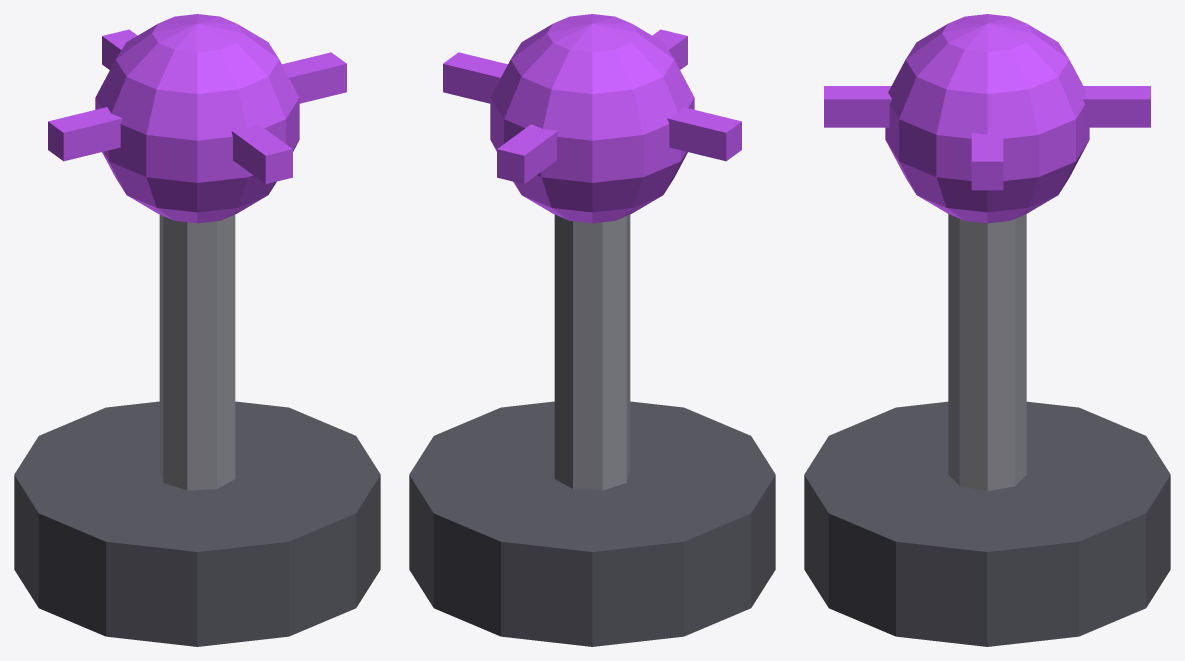
Rendered from Sprinkler_MasterSprinkler.fbx.
3 views of the same model, side by side, from view 1: azimuth 30°, elevation 25°; view 2: azimuth 150°, elevation 25°; view 3: azimuth 270°, elevation 25° (orthographic).
Visible parts, largest first — view 1: Base_MasterSprinkler, Cabeca_MasterSprinkler, Cano_MasterSprinkler; view 2: Base_MasterSprinkler, Cabeca_MasterSprinkler, Cano_MasterSprinkler; view 3: Base_MasterSprinkler, Cabeca_MasterSprinkler, Cano_MasterSprinkler.
Boxes of the visible parts, x1,y1,x2,y2 form: Base_MasterSprinkler: (14,401,380,646); Cabeca_MasterSprinkler: (48,14,346,223); Cano_MasterSprinkler: (159,214,235,490); Base_MasterSprinkler: (409,401,775,646); Cabeca_MasterSprinkler: (443,14,741,223); Cano_MasterSprinkler: (554,214,630,490); Base_MasterSprinkler: (804,401,1170,646); Cabeca_MasterSprinkler: (824,14,1150,223); Cano_MasterSprinkler: (948,214,1026,491).
Size of the model in its own units: 1.4 by 2.3 by 1.4.
1 material, 1 textured.
